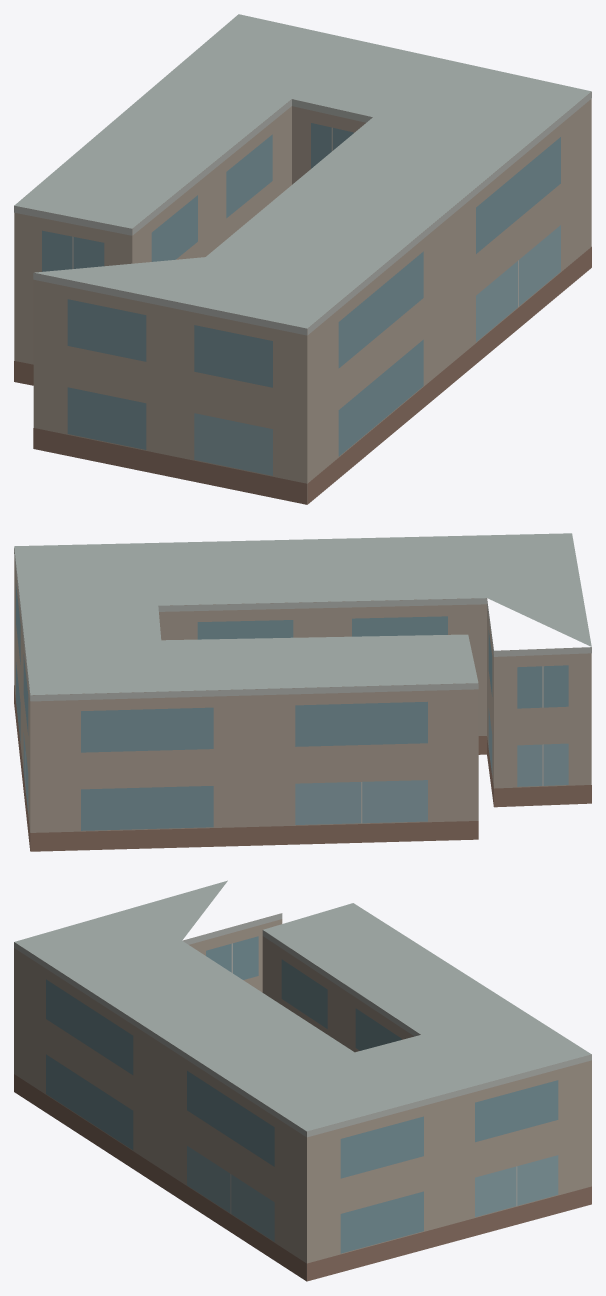
The model's file is survey-upis-32755036.glb.
3 views of the same model, one above another, from view 1: azimuth 30°, elevation 25°; view 2: azimuth 150°, elevation 25°; view 3: azimuth 270°, elevation 25° (orthographic). The views are drawn at different scales.
Parts seen in each view (by area): view 1: survey-upis-32755036.tmp; view 2: survey-upis-32755036.tmp; view 3: survey-upis-32755036.tmp.
Boxes of the visible parts, x1=… form: survey-upis-32755036.tmp: x1=14, y1=14, x2=591, y2=504; survey-upis-32755036.tmp: x1=14, y1=533, x2=591, y2=851; survey-upis-32755036.tmp: x1=14, y1=880, x2=591, y2=1281.
Bounding box in the file's own units: 21.91 × 6.1 × 21.3.
